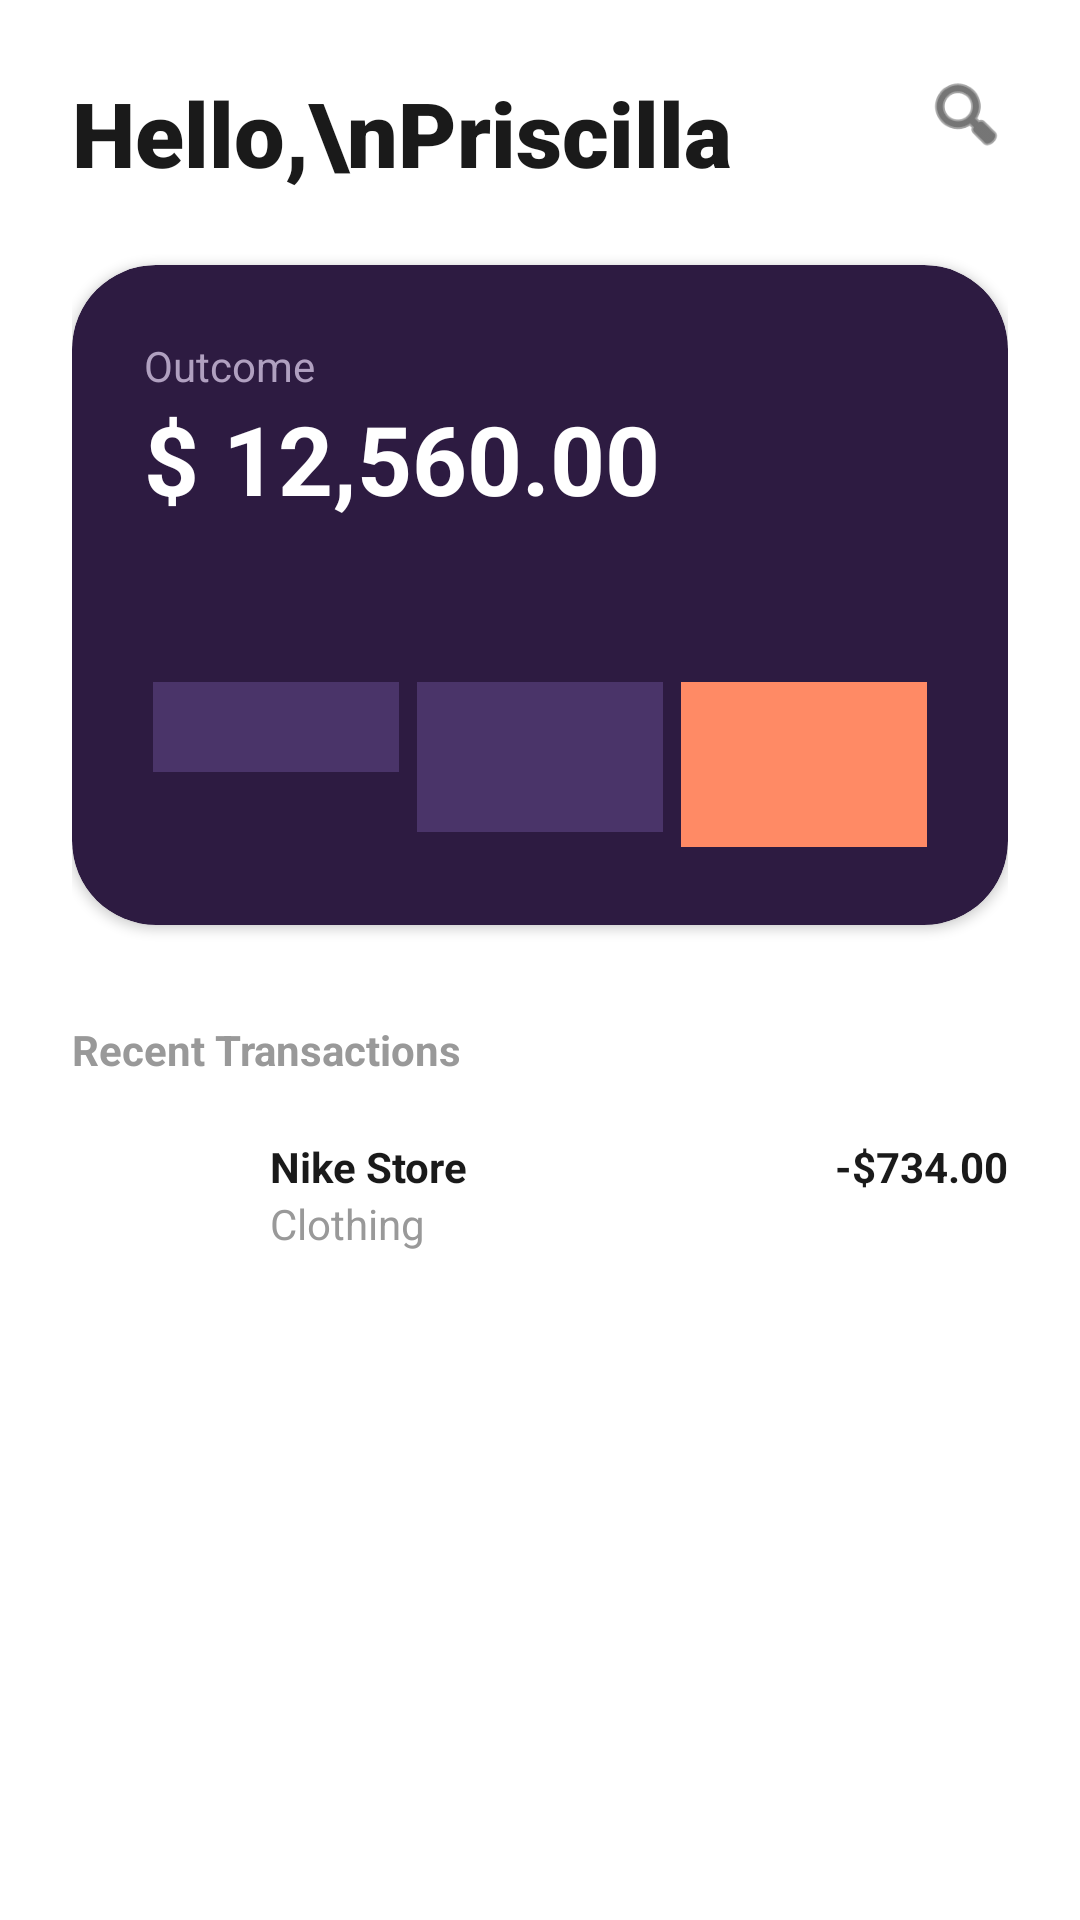

Locate icon controls on the screen. Image size 1080x1920, boxes as bbox(x1, y1, x2, y2).
search: bbox(935, 83, 997, 146)
